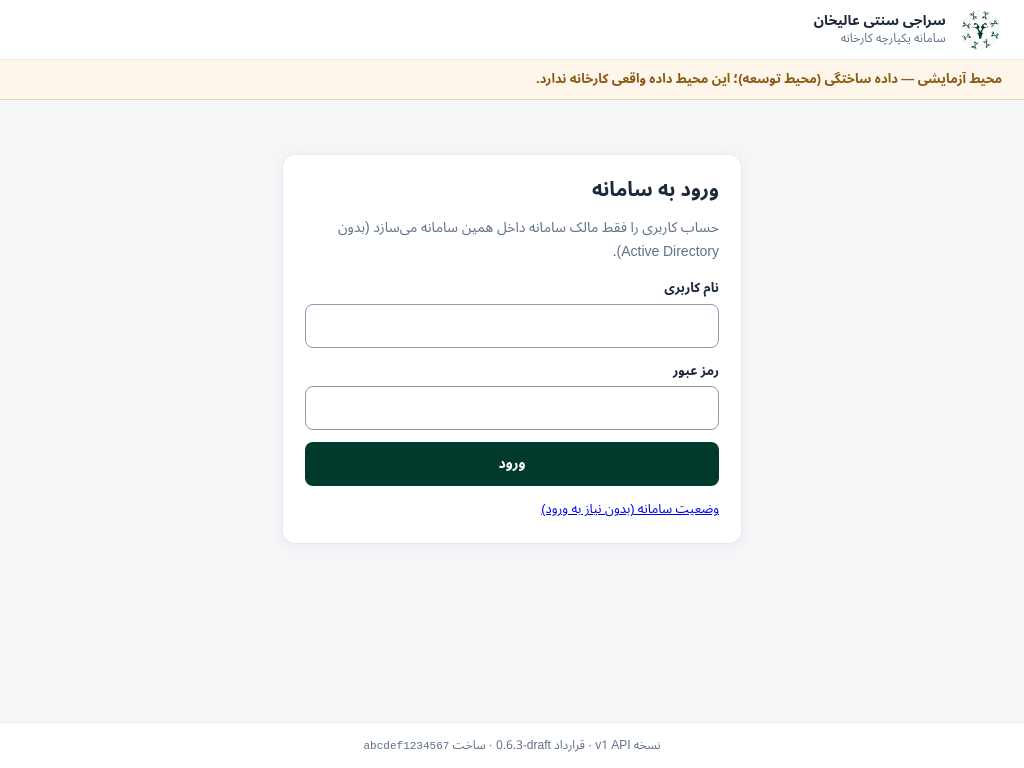
Test: shell and login › no session -> login form; a failed login shows the server message with code and request id
The width and height of the screenshot is (1024, 768).
Expected: the element with test id "login" is shown, [282,154,742,544]
In the field with test id "login-username": (512, 326) [305,304,719,348], type "syn.user"
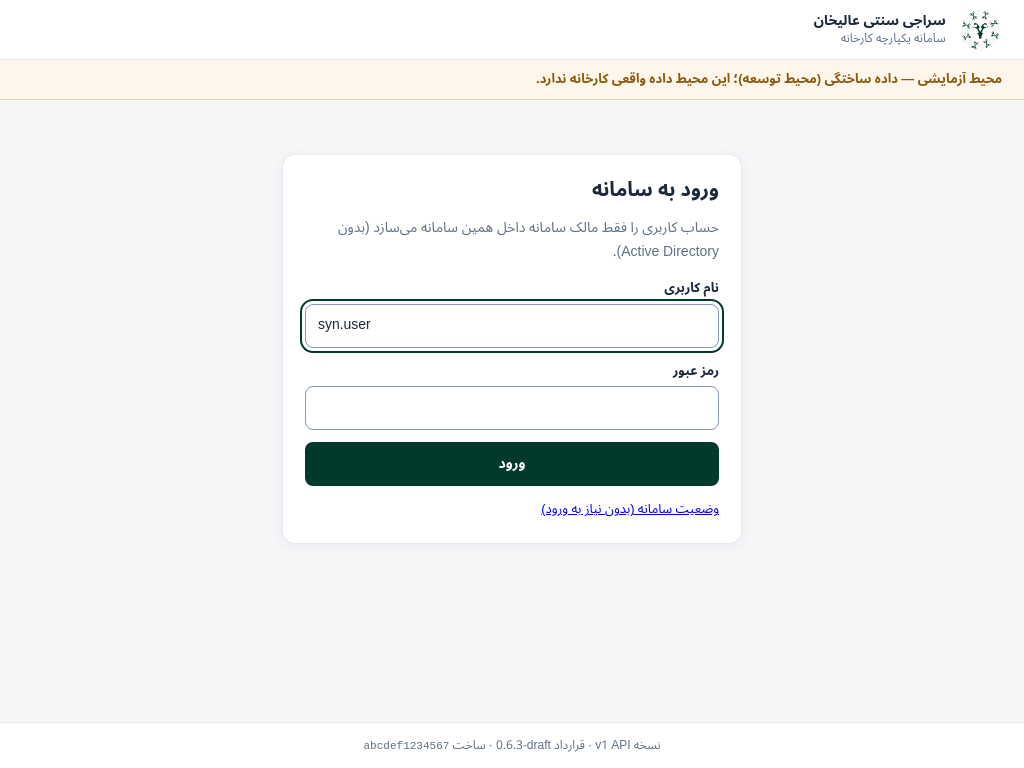
In the password field with test id "login-password": (512, 408) [305,386,719,430], type "x"
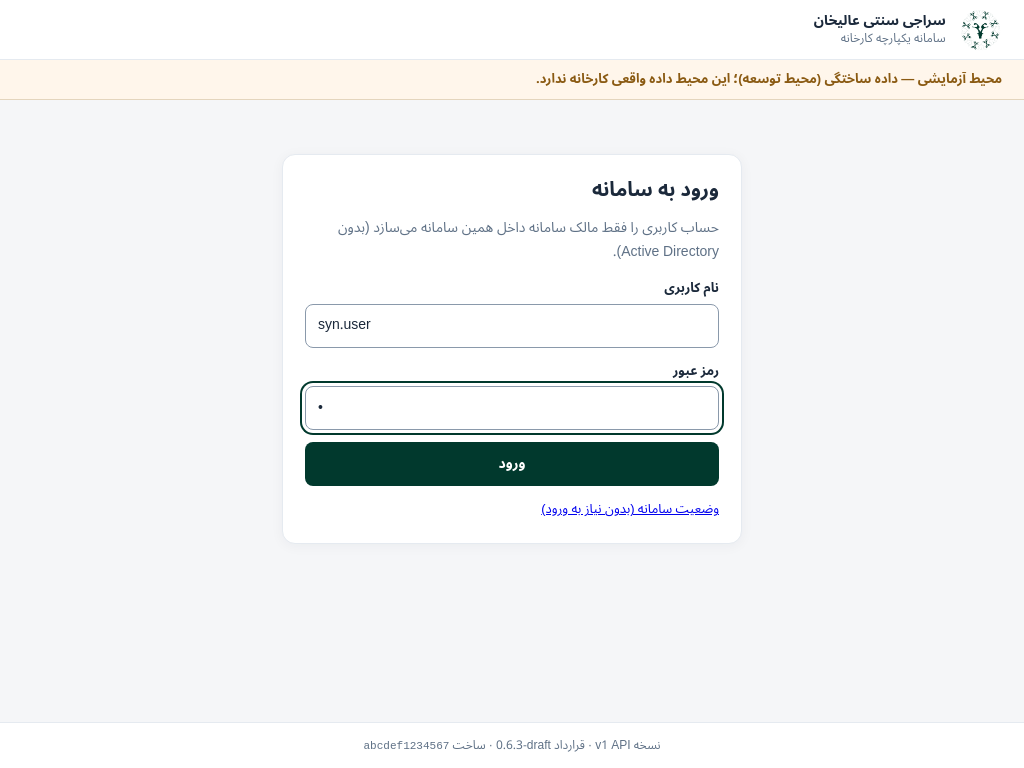
Click the button with test id "login-submit": click(512, 464) [305,442,719,486]
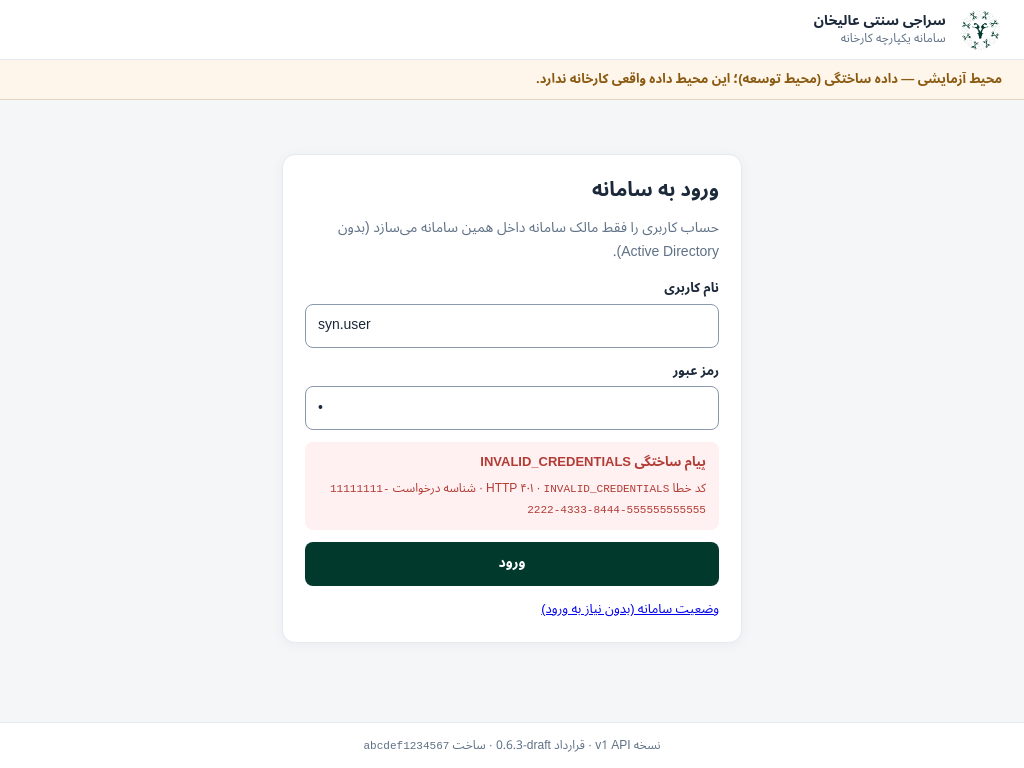
Now the message with test id "action-error" shows "INVALID_CREDENTIALS", box [544,483,669,495]
Now the message with test id "action-error" shows "11111111-2222-4333-8444-555555555555", box [330,483,706,516]
